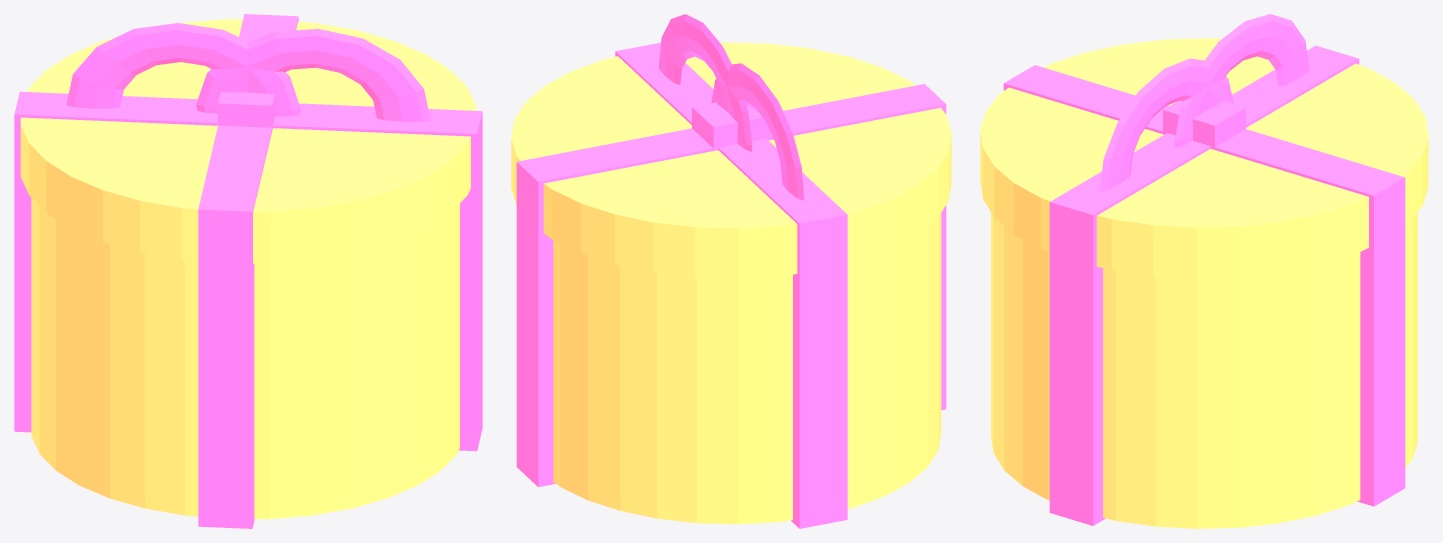
File: Tmpl_Round_Root_204.glb
3 renders of one model, left to right at view 1: azimuth 30°, elevation 25°; view 2: azimuth 150°, elevation 25°; view 3: azimuth 270°, elevation 25°, orthographic. The views are drawn at different scales.
Visible parts, largest first — view 1: Tmpl_Round_Base.202, Tmpl_Round_Lid.202, Tmpl_Round_Ribbon_Y.202, Tmpl_Round_Ribbon_X.202, Tmpl_Round_BowR.202, Tmpl_Round_BowL.202, Tmpl_Round_BowKnot.202; view 2: Tmpl_Round_Base.202, Tmpl_Round_Lid.202, Tmpl_Round_Ribbon_X.202, Tmpl_Round_Ribbon_Y.202, Tmpl_Round_BowL.202, Tmpl_Round_BowR.202, Tmpl_Round_BowKnot.202; view 3: Tmpl_Round_Base.202, Tmpl_Round_Lid.202, Tmpl_Round_Ribbon_X.202, Tmpl_Round_Ribbon_Y.202, Tmpl_Round_BowR.202, Tmpl_Round_BowL.202, Tmpl_Round_BowKnot.202.
Part boxes in pixels (left/top/right/bottom): Tmpl_Round_Base.202: left=31, top=198, right=459, bottom=519; Tmpl_Round_Lid.202: left=20, top=19, right=476, bottom=263; Tmpl_Round_Ribbon_Y.202: left=198, top=14, right=298, bottom=528; Tmpl_Round_Ribbon_X.202: left=14, top=91, right=482, bottom=451; Tmpl_Round_BowR.202: left=66, top=23, right=300, bottom=116; Tmpl_Round_BowL.202: left=196, top=29, right=430, bottom=121; Tmpl_Round_BowKnot.202: left=218, top=91, right=274, bottom=129; Tmpl_Round_Base.202: left=553, top=213, right=941, bottom=524; Tmpl_Round_Lid.202: left=511, top=42, right=951, bottom=278; Tmpl_Round_Ribbon_X.202: left=615, top=42, right=847, bottom=528; Tmpl_Round_Ribbon_Y.202: left=516, top=84, right=946, bottom=486; Tmpl_Round_BowL.202: left=658, top=14, right=752, bottom=151; Tmpl_Round_BowR.202: left=711, top=63, right=804, bottom=200; Tmpl_Round_BowKnot.202: left=692, top=102, right=770, bottom=150; Tmpl_Round_Base.202: left=991, top=212, right=1417, bottom=528; Tmpl_Round_Lid.202: left=980, top=38, right=1428, bottom=278; Tmpl_Round_Ribbon_X.202: left=1049, top=45, right=1359, bottom=525; Tmpl_Round_Ribbon_Y.202: left=1003, top=65, right=1405, bottom=506; Tmpl_Round_BowR.202: left=1174, top=14, right=1309, bottom=147; Tmpl_Round_BowL.202: left=1099, top=58, right=1233, bottom=191; Tmpl_Round_BowKnot.202: left=1163, top=100, right=1245, bottom=148.
Size of the model in its own units: 0.8635 by 0.8415 by 0.8635.
